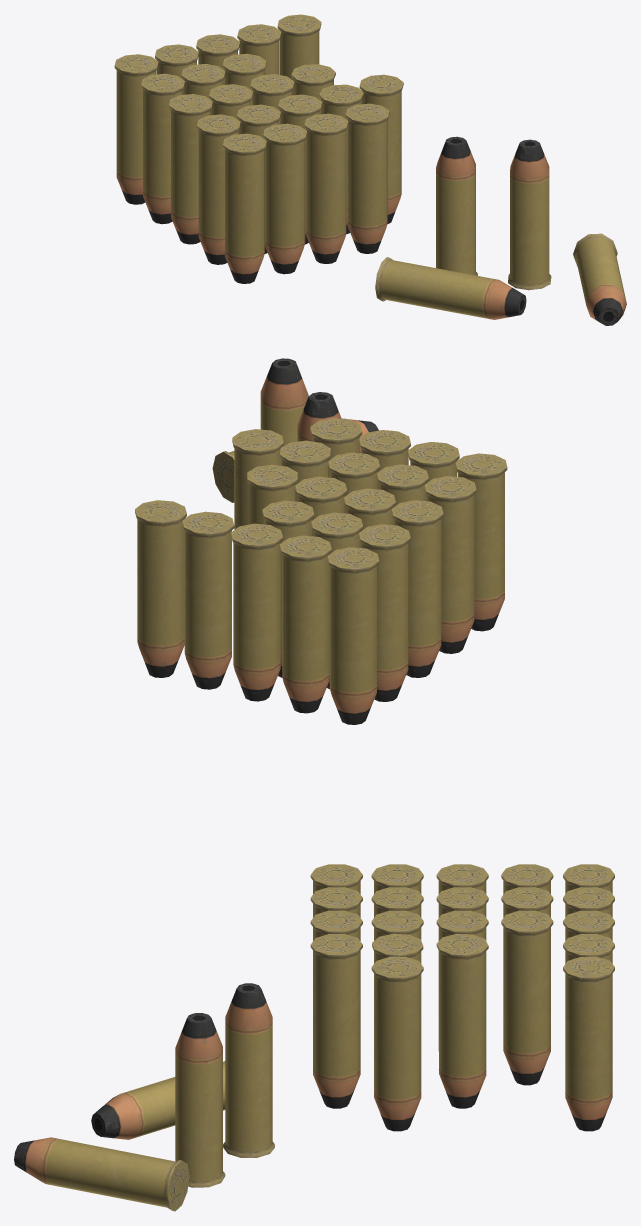
File: sm70_103_magnumbulleta.fbx
3 renders of one model, top to bottom at view 1: azimuth 30°, elevation 25°; view 2: azimuth 150°, elevation 25°; view 3: azimuth 270°, elevation 25°, orthographic. The views are drawn at different scales.
Visible parts, largest first — view 1: LOD_1_Group_0_Sub_1__sm70_103_Mat, LOD_1_Group_1_Sub_1__sm70_103_Mat; view 2: LOD_1_Group_0_Sub_1__sm70_103_Mat, LOD_1_Group_1_Sub_1__sm70_103_Mat; view 3: LOD_1_Group_0_Sub_1__sm70_103_Mat, LOD_1_Group_1_Sub_1__sm70_103_Mat.
Part boxes in pixels (x1=…): LOD_1_Group_0_Sub_1__sm70_103_Mat: x1=114, y1=14, x2=403, y2=283; LOD_1_Group_1_Sub_1__sm70_103_Mat: x1=375, y1=136, x2=626, y2=325; LOD_1_Group_0_Sub_1__sm70_103_Mat: x1=135, y1=418, x2=507, y2=724; LOD_1_Group_1_Sub_1__sm70_103_Mat: x1=212, y1=358, x2=378, y2=502; LOD_1_Group_0_Sub_1__sm70_103_Mat: x1=310, y1=864, x2=614, y2=1131; LOD_1_Group_1_Sub_1__sm70_103_Mat: x1=14, y1=983, x2=274, y2=1211.
Size of the model in its own units: 0.1386 by 0.0513 by 0.1549.
